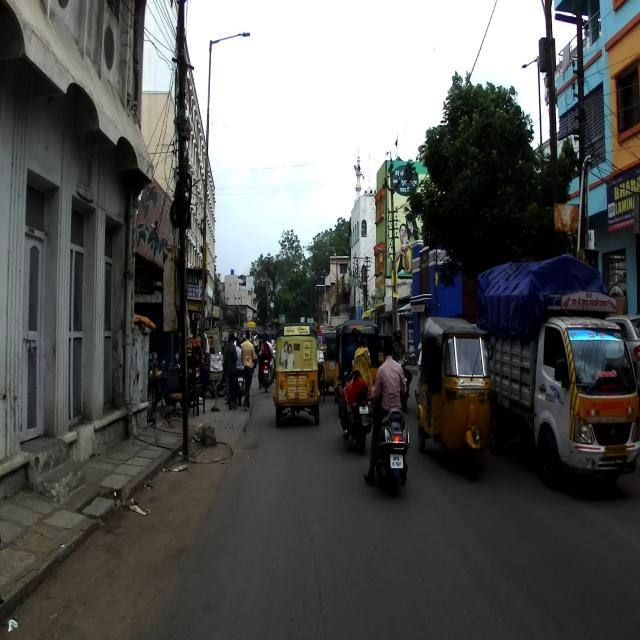autorickshaw: (414, 313, 496, 482), (272, 320, 320, 430)
motorcycle: (335, 369, 374, 459)
scooter: (369, 391, 410, 500)
truck: (476, 254, 638, 497)
